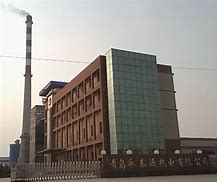smoke: (1, 2, 30, 17)
